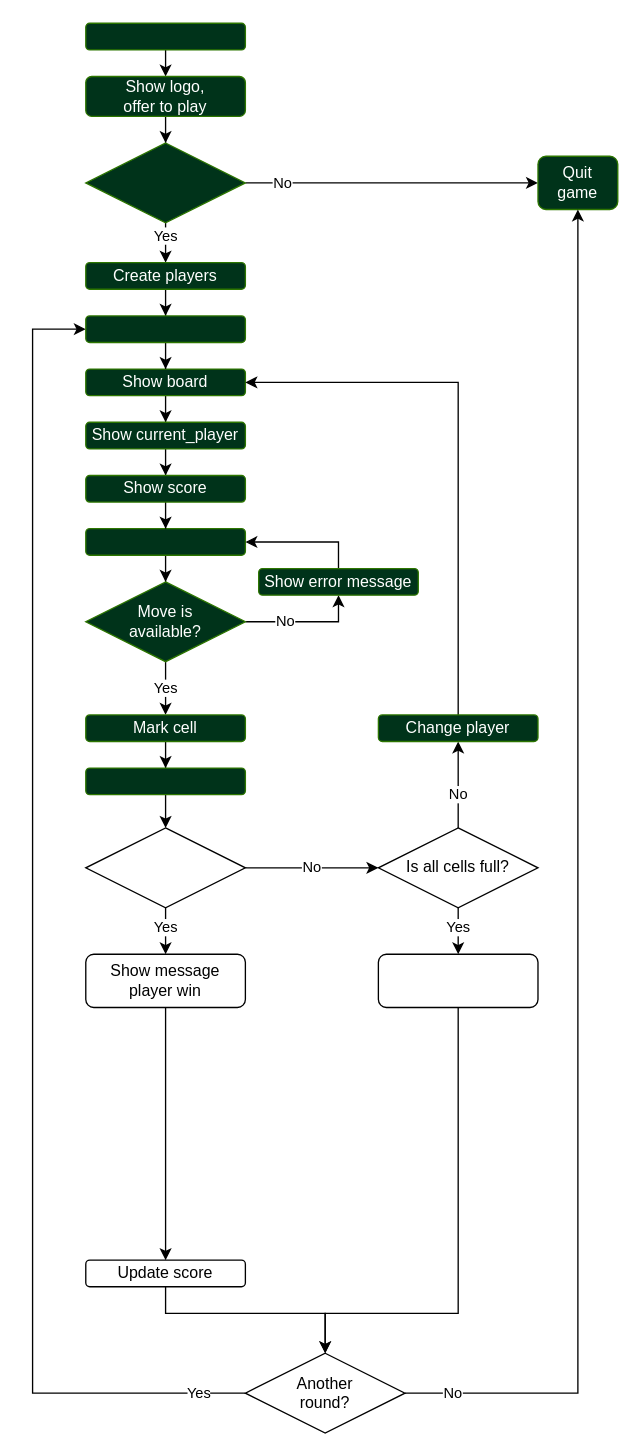
This 641x1456 diagram has some shape labels left out. Each missing label, with the box of its shape:
Ask player to move: (84, 527, 245, 555)
Create board: (84, 315, 245, 342)
Del num from help: (84, 767, 245, 795)
Is match of 3?: (84, 827, 245, 908)
Run file: (84, 22, 245, 50)
Show message "draw": (377, 953, 538, 1007)
User want to play?: (84, 142, 245, 223)
